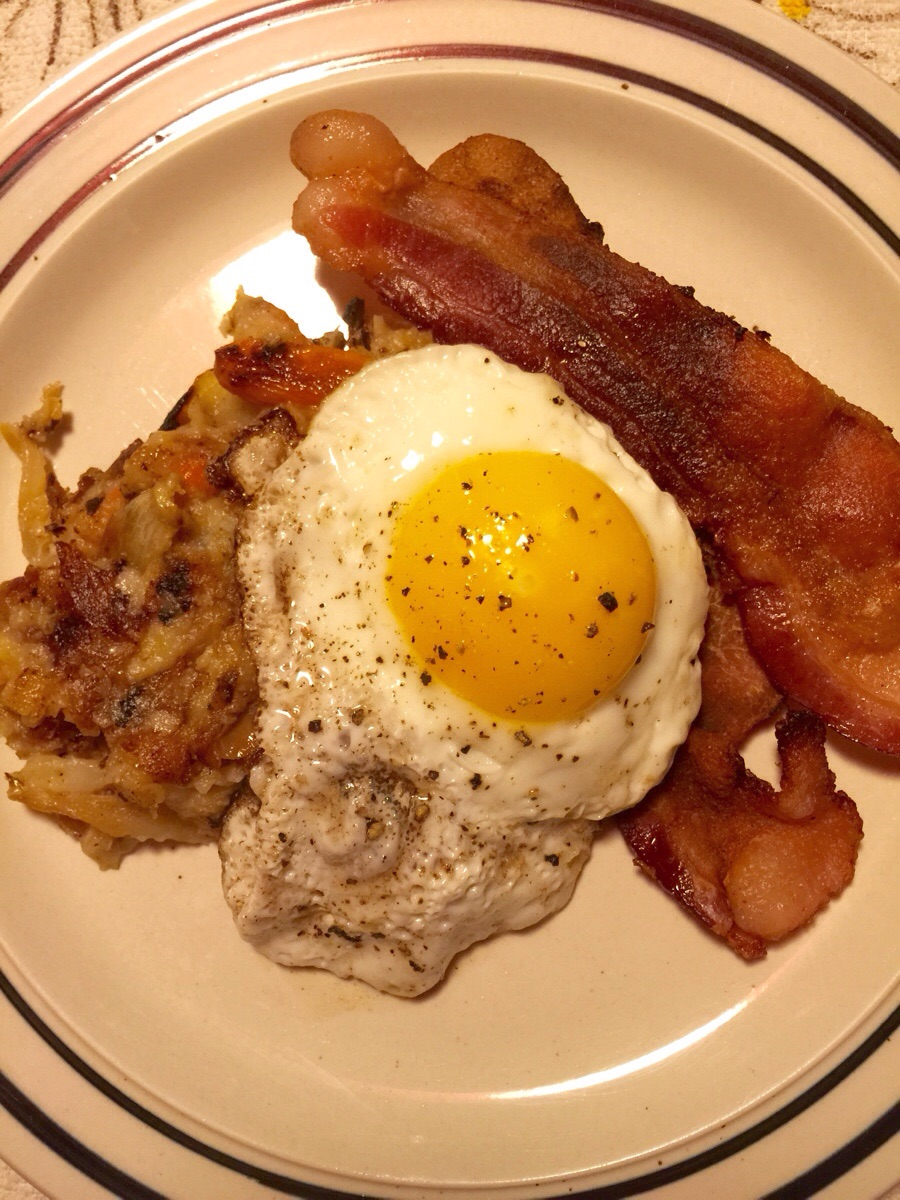fried egg: (311, 400, 657, 850)
